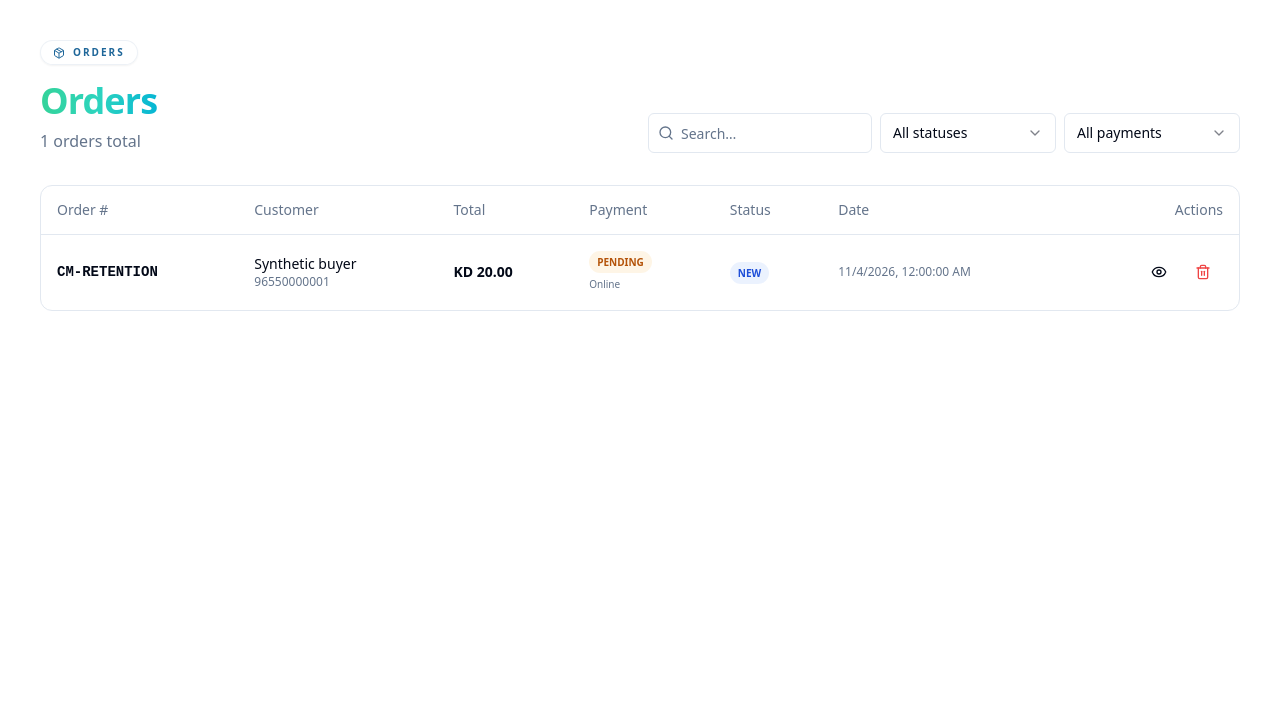
Test: administrator order deletion › reports success only after an ordinary parent deletion succeeds
The image size is (1280, 720).
Expected: the text "CM-RETENTION" is shown, [57, 264, 158, 280]
Click the button named "Delete order CM-RETENTION": (1203, 272) [1183, 252, 1223, 292]
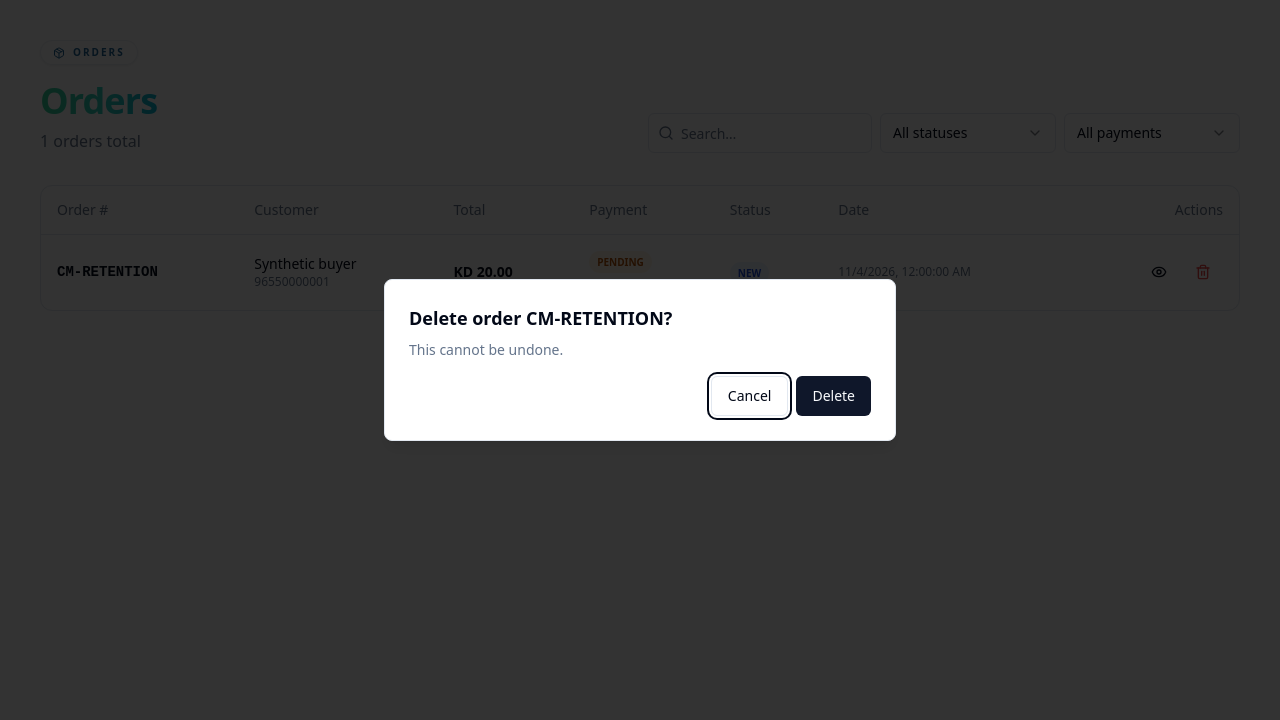
Click the button "Delete": (834, 396) [796, 376, 871, 416]
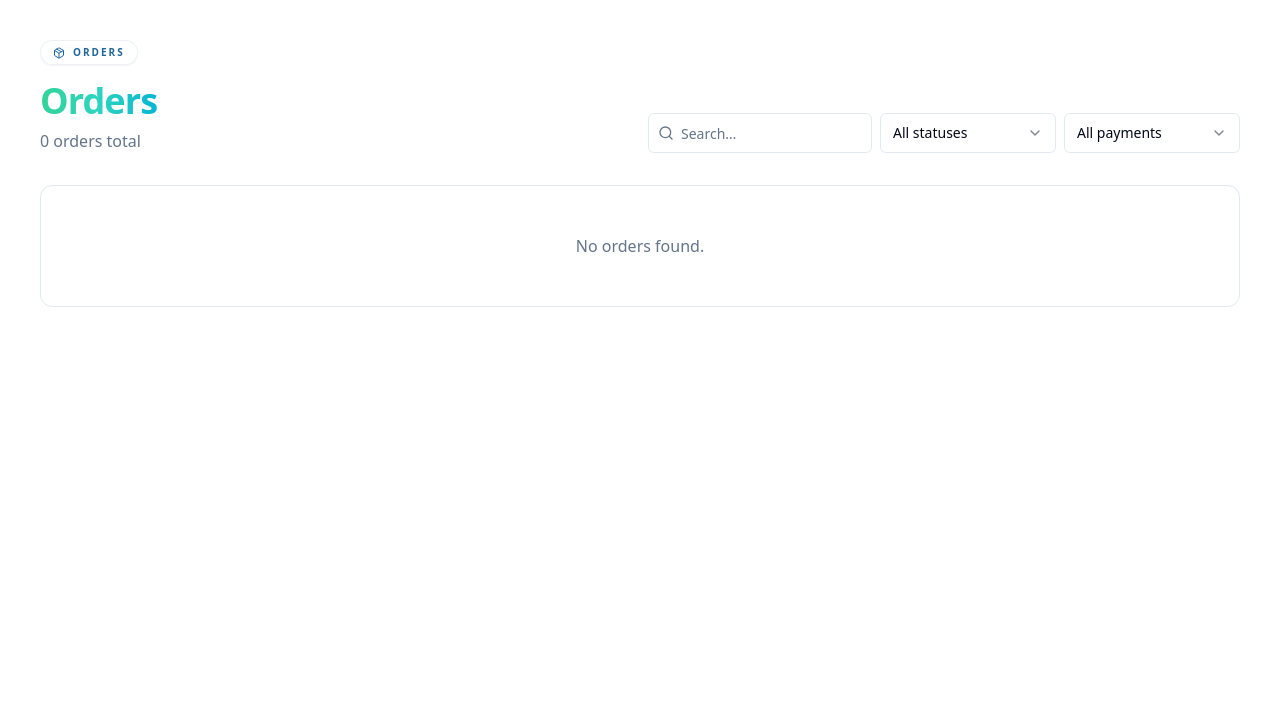
Now the text "CM-RETENTION" is gone
